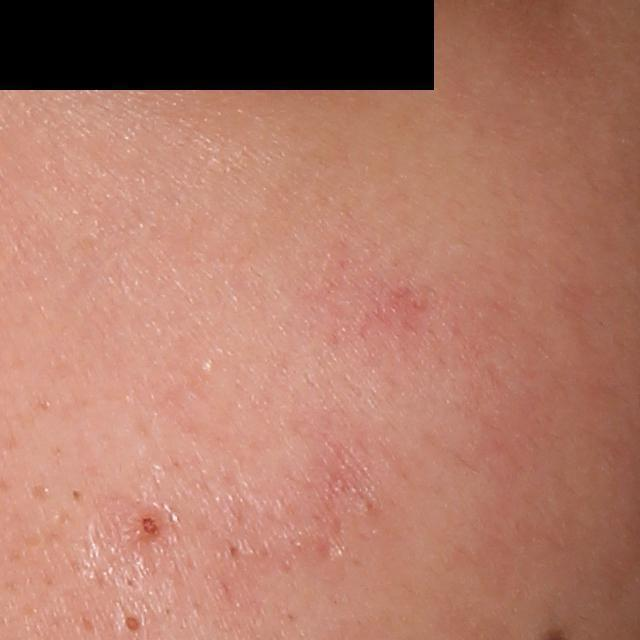comedo: (117, 609, 142, 638)
papule: (123, 502, 171, 546)
